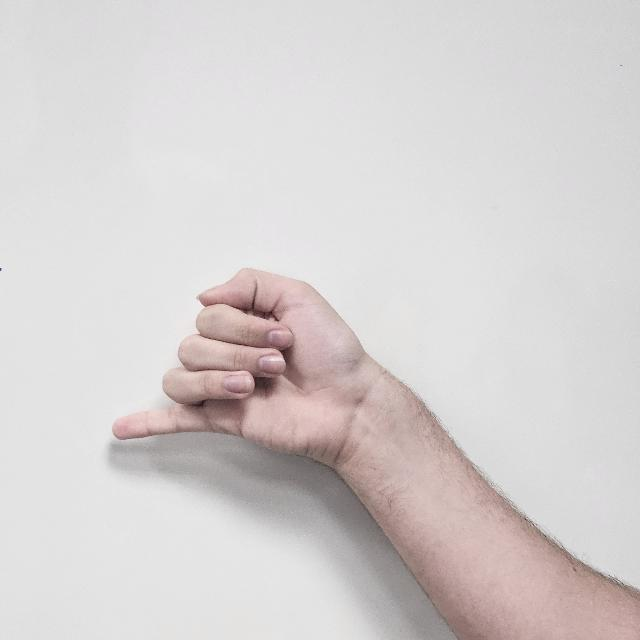Esquerda: (82, 235, 368, 500)
